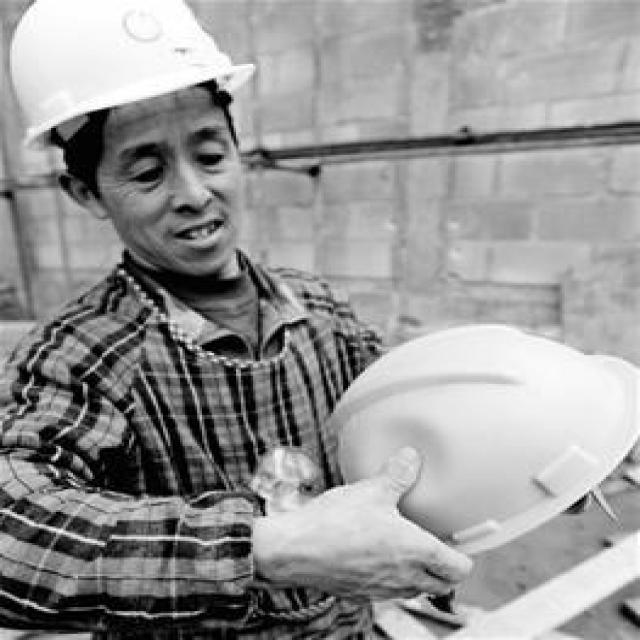helmet: (0, 0, 258, 260)
